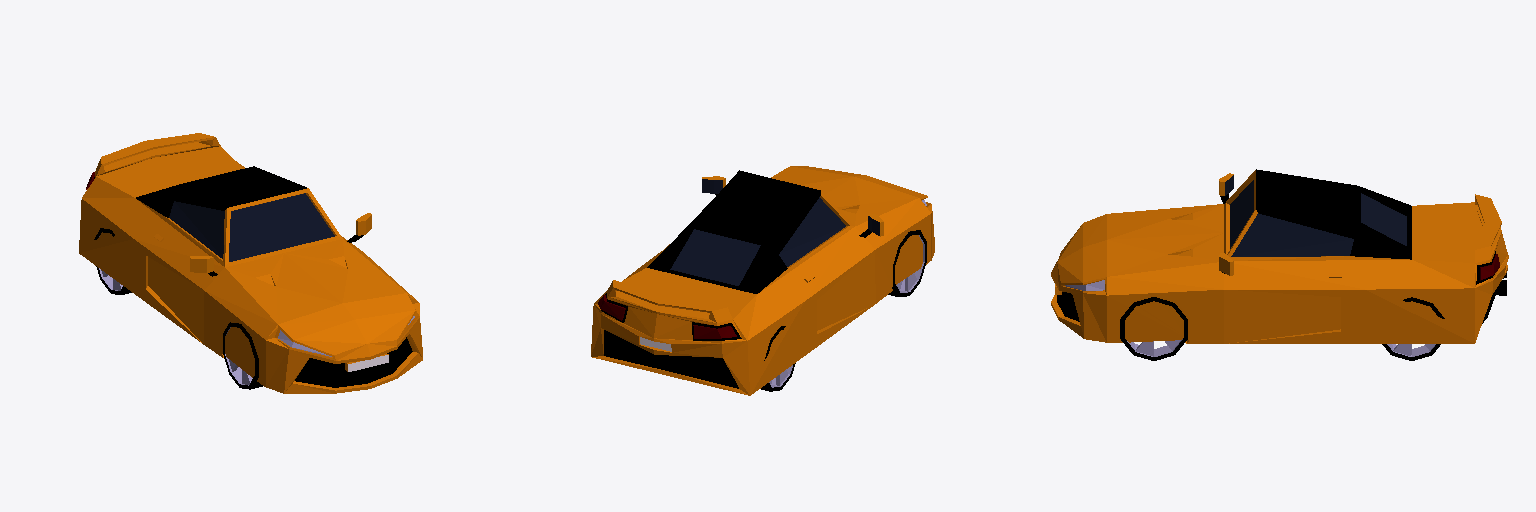
3 renders of one model, left to right at view 1: azimuth 30°, elevation 25°; view 2: azimuth 150°, elevation 25°; view 3: azimuth 270°, elevation 25°, orthographic.
Visible parts, largest first — view 1: Sports, Sports_wheel_front_right; view 2: Sports, Sports_wheel_front_right; view 3: Sports, Sports_wheel_front_left, Sports_wheel_rear_left.
Part boxes in pixels (x1,y1,x2,y2): Sports: (79, 133, 422, 393); Sports_wheel_front_right: (223, 322, 262, 389); Sports: (591, 166, 934, 395); Sports_wheel_front_right: (888, 230, 926, 296); Sports: (1051, 169, 1508, 343); Sports_wheel_front_left: (1120, 297, 1187, 360); Sports_wheel_rear_left: (1382, 297, 1444, 360).
Size of the model in its own units: 2.63 by 1.84 by 5.73.
8 materials, 1 textured.